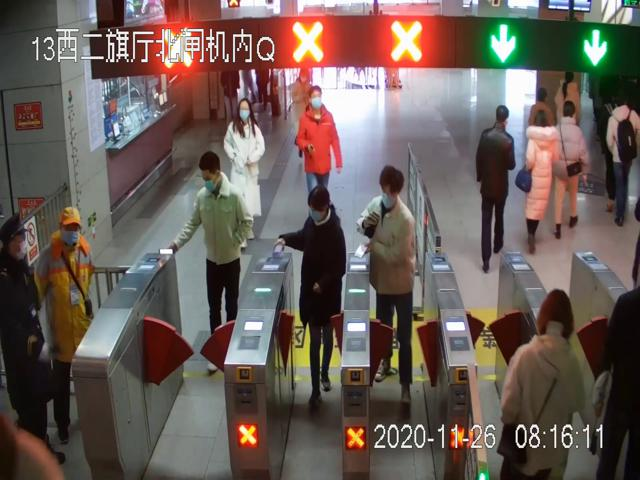person: (175, 152, 250, 371), (357, 166, 423, 405), (34, 205, 94, 442), (285, 184, 345, 407), (476, 104, 516, 270), (225, 98, 266, 251), (296, 84, 343, 209), (519, 111, 549, 255)
